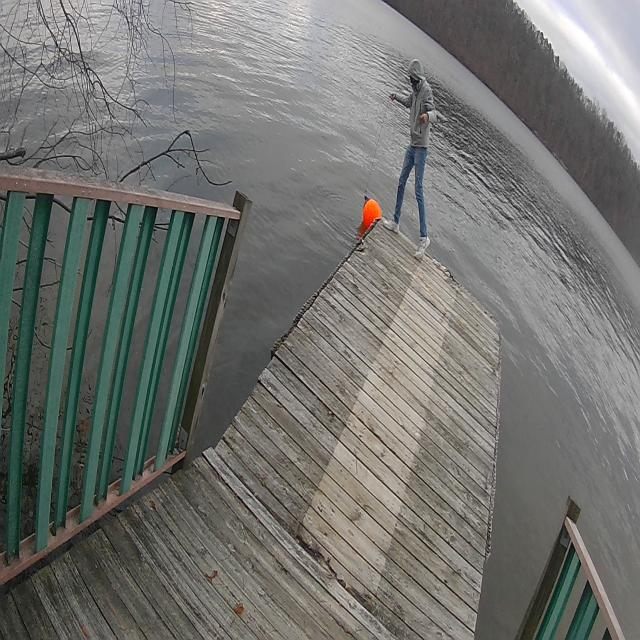Buoy: (355, 190, 387, 241)
